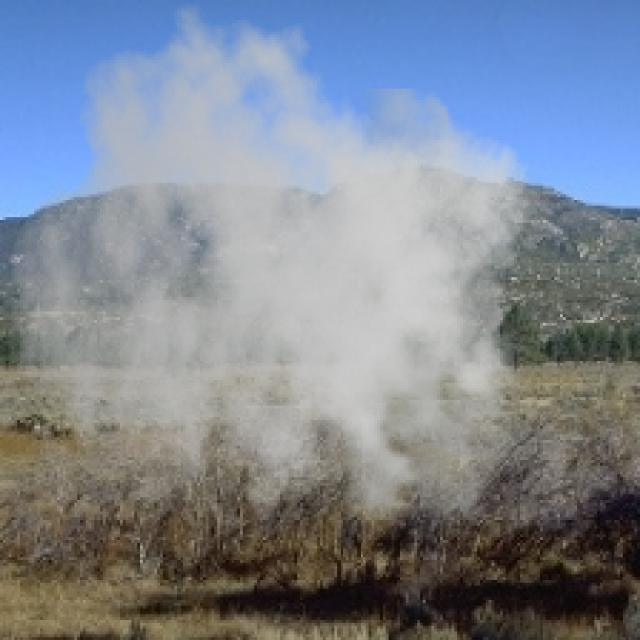Smoke: (9, 3, 548, 560)
